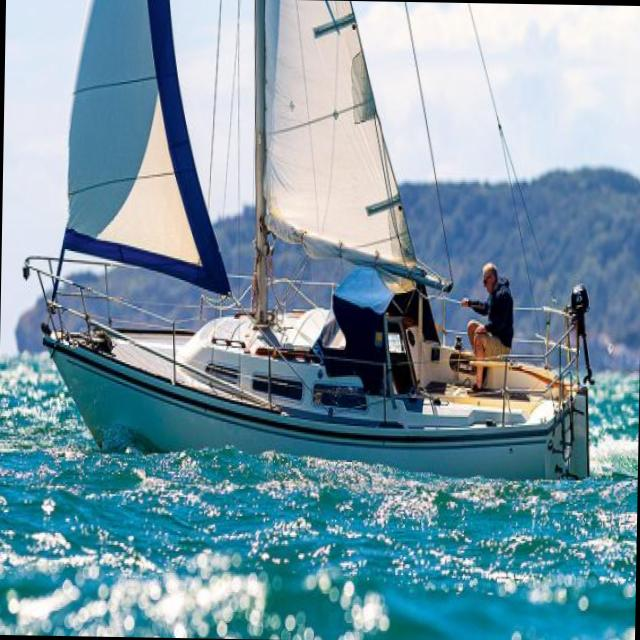boat: (17, 0, 617, 515)
